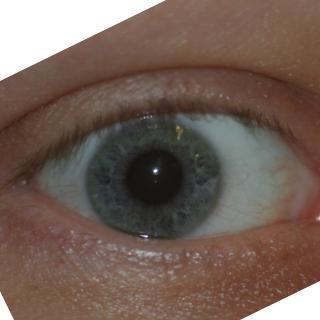pupil: (126, 148, 181, 204)
